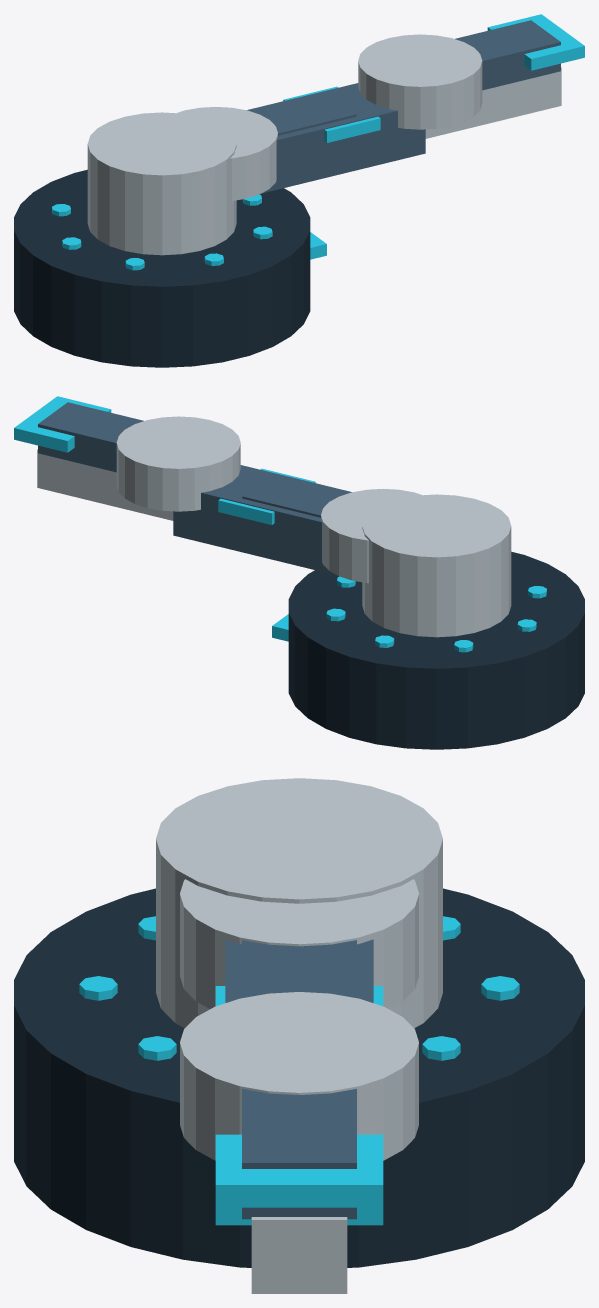
Rendered from 08_L78_MultiAxisVacuumTransferRobot.fbx.
3 renders of one model, top to bottom at view 1: azimuth 30°, elevation 25°; view 2: azimuth 150°, elevation 25°; view 3: azimuth 270°, elevation 25°, orthographic. The views are drawn at different scales.
Parts seen in each view (by area): view 1: MultiAxisVacuumTransferRobot, MultiAxisVacuumTransferRobot_Part_0018, MultiAxisVacuumTransferRobot_Part_0015, MultiAxisVacuumTransferRobot_Part_0019, MultiAxisVacuumTransferRobot_Part_0016, MultiAxisVacuumTransferRobot_Part_0020, MultiAxisVacuumTransferRobot_Part_0017; view 2: MultiAxisVacuumTransferRobot, MultiAxisVacuumTransferRobot_Part_0018, MultiAxisVacuumTransferRobot_Part_0015, MultiAxisVacuumTransferRobot_Part_0019, MultiAxisVacuumTransferRobot_Part_0016, MultiAxisVacuumTransferRobot_Part_0020, MultiAxisVacuumTransferRobot_Part_0017; view 3: MultiAxisVacuumTransferRobot, MultiAxisVacuumTransferRobot_Part_0018, MultiAxisVacuumTransferRobot_Part_0015, MultiAxisVacuumTransferRobot_Part_0019, MultiAxisVacuumTransferRobot_Part_0020, MultiAxisVacuumTransferRobot_Part_0016, MultiAxisVacuumTransferRobot_Part_0014.
Part boxes in pixels (left/top/right/bottom): MultiAxisVacuumTransferRobot: left=14, top=67, right=561, bottom=367; MultiAxisVacuumTransferRobot_Part_0018: left=358, top=34, right=482, bottom=129; MultiAxisVacuumTransferRobot_Part_0015: left=176, top=107, right=277, bottom=201; MultiAxisVacuumTransferRobot_Part_0019: left=455, top=20, right=560, bottom=90; MultiAxisVacuumTransferRobot_Part_0016: left=250, top=92, right=356, bottom=135; MultiAxisVacuumTransferRobot_Part_0020: left=487, top=14, right=584, bottom=70; MultiAxisVacuumTransferRobot_Part_0017: left=283, top=86, right=380, bottom=142; MultiAxisVacuumTransferRobot: left=37, top=449, right=584, bottom=749; MultiAxisVacuumTransferRobot_Part_0018: left=116, top=416, right=240, bottom=511; MultiAxisVacuumTransferRobot_Part_0015: left=321, top=489, right=422, bottom=583; MultiAxisVacuumTransferRobot_Part_0019: left=38, top=402, right=143, bottom=472; MultiAxisVacuumTransferRobot_Part_0016: left=242, top=474, right=348, bottom=517; MultiAxisVacuumTransferRobot_Part_0020: left=14, top=396, right=111, bottom=452; MultiAxisVacuumTransferRobot_Part_0017: left=218, top=468, right=315, bottom=524; MultiAxisVacuumTransferRobot: left=14, top=778, right=584, bottom=1293; MultiAxisVacuumTransferRobot_Part_0018: left=180, top=992, right=418, bottom=1160; MultiAxisVacuumTransferRobot_Part_0015: left=180, top=879, right=418, bottom=1008; MultiAxisVacuumTransferRobot_Part_0019: left=242, top=1089, right=356, bottom=1219; MultiAxisVacuumTransferRobot_Part_0020: left=215, top=1134, right=383, bottom=1207; MultiAxisVacuumTransferRobot_Part_0016: left=242, top=940, right=356, bottom=997; MultiAxisVacuumTransferRobot_Part_0014: left=215, top=1207, right=383, bottom=1225.
Size of the model in its own units: 246 by 80.5 by 119.
